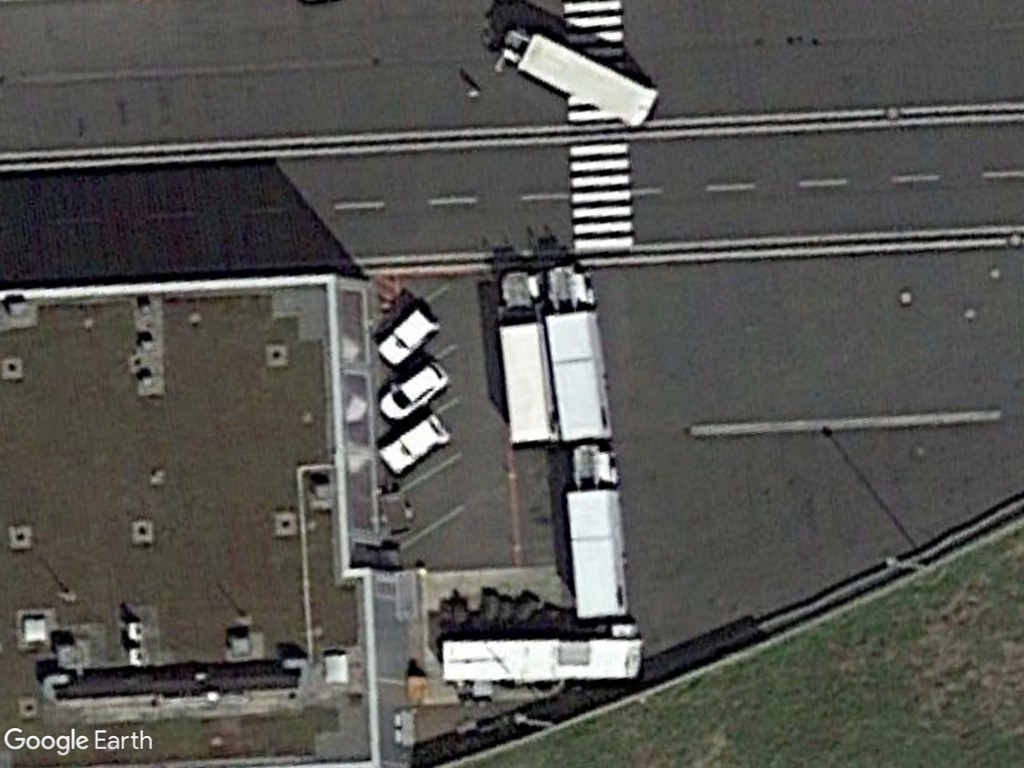bus: (437, 634, 647, 687)
car: (377, 359, 451, 427)
truck: (494, 22, 661, 136), (493, 265, 566, 456), (542, 262, 614, 445), (564, 440, 634, 622)
